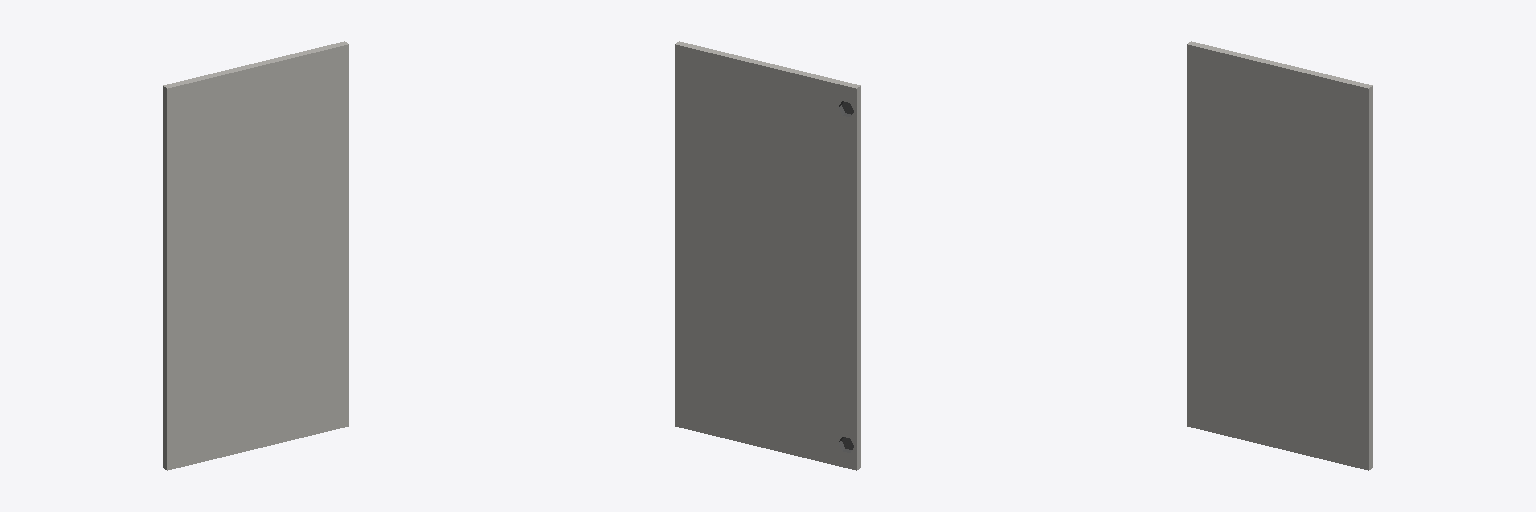
Rendered from IKEA.ART.00205431.obj.
3 views of the same model, side by side, from view 1: azimuth 30°, elevation 25°; view 2: azimuth 150°, elevation 25°; view 3: azimuth 330°, elevation 25° (orthographic).
Visible parts, largest first — view 1: model_model.006; view 2: model_model.006; view 3: model_model.006.
Boxes of the visible parts, x1,y1,x2,y2 form: model_model.006: [163, 41, 348, 470]; model_model.006: [675, 41, 860, 470]; model_model.006: [1187, 41, 1372, 470].
Bounding box in the file's own units: 0.397 × 0.797 × 0.016.